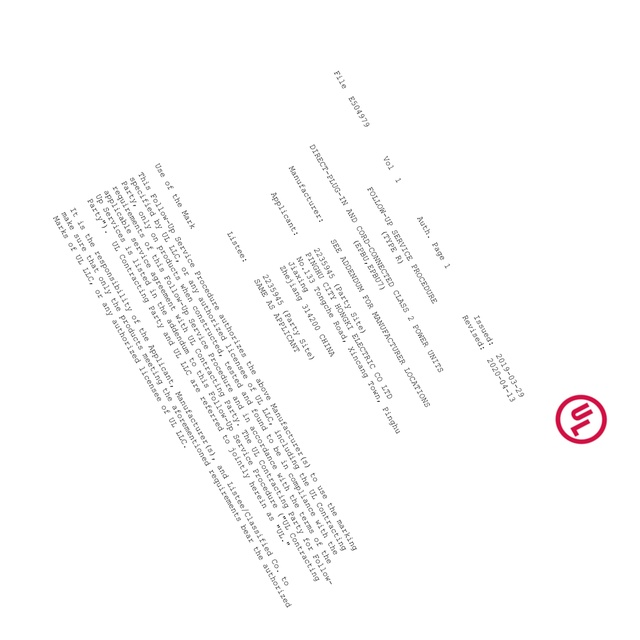ul: (554, 392, 609, 444)
